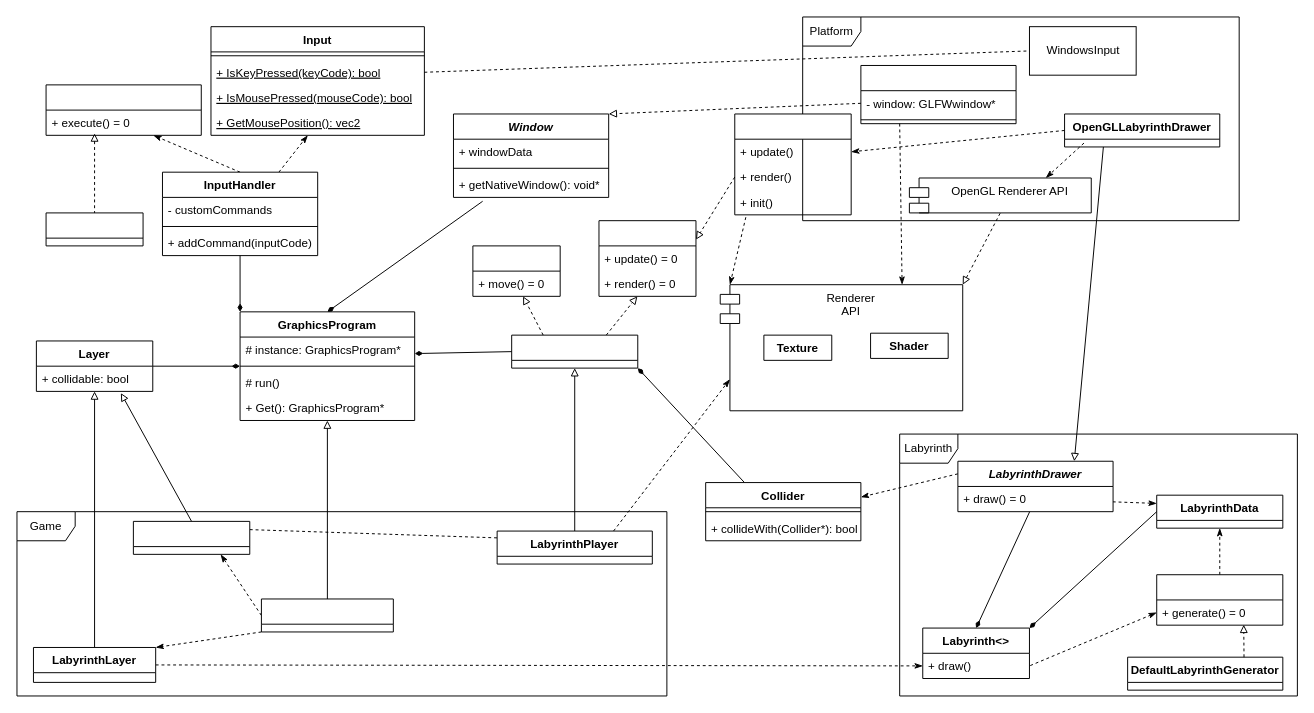
Image size: 1314x713. Some labels were removed from this diagram. The shapes that lost their labels are listed below. From the top down, each one's box as (x1, y1, x2, y2) in pixels, then its label:
(45, 84, 201, 135): Command
(860, 65, 1016, 124): WindowsWindow
(734, 113, 851, 215): TexturedRectangle
(45, 212, 143, 246): ExitCommand
(472, 245, 560, 296): Movable
(598, 220, 696, 296): GameObject
(511, 334, 638, 368): Player
(132, 520, 250, 554): GameLayer
(260, 598, 393, 632): LabyrinthGame
(1156, 574, 1283, 625): LabyrinthGenerator
